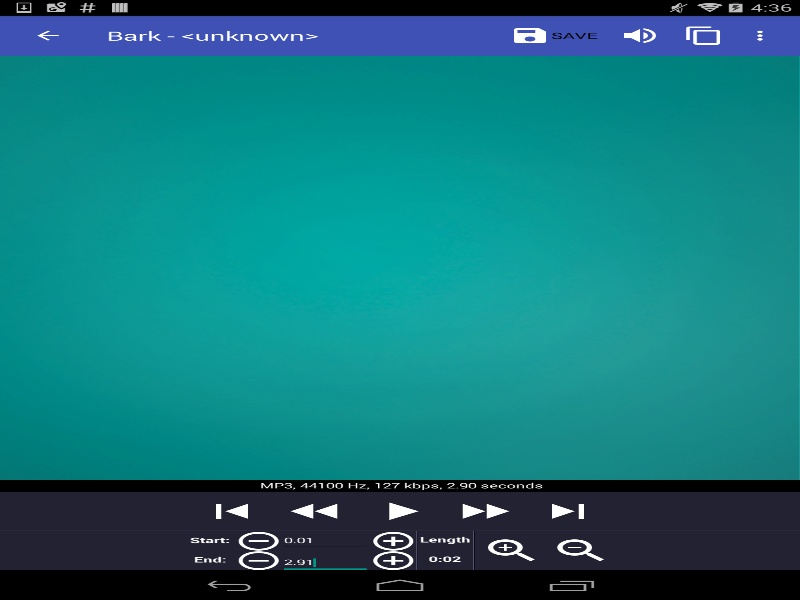Button: (10, 15, 85, 55), (546, 534, 616, 566), (477, 534, 546, 566), (451, 496, 516, 526), (200, 496, 264, 526), (284, 496, 348, 526), (368, 496, 432, 526), (536, 496, 600, 526), (237, 550, 278, 570), (372, 550, 413, 570), (237, 531, 278, 550), (372, 531, 413, 550)
Input: (278, 530, 372, 552), (278, 552, 372, 574)
